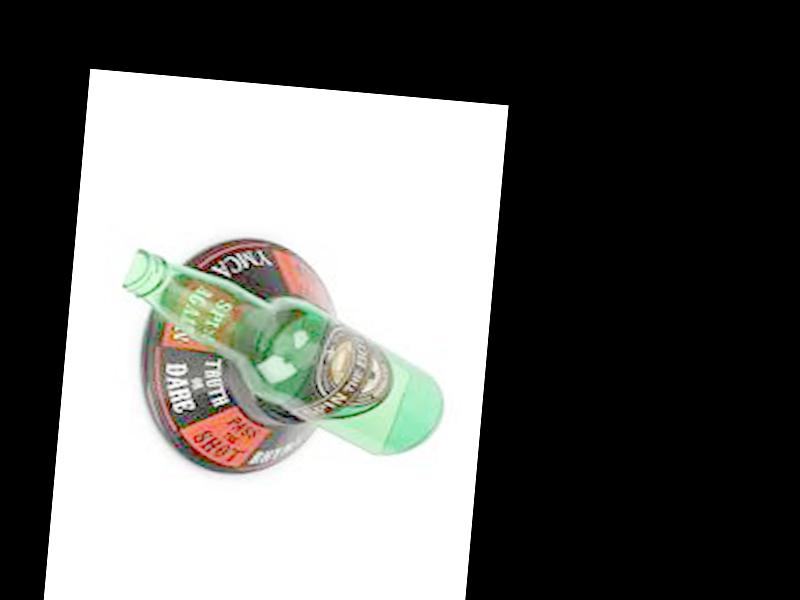Beer: (109, 249, 454, 462)
